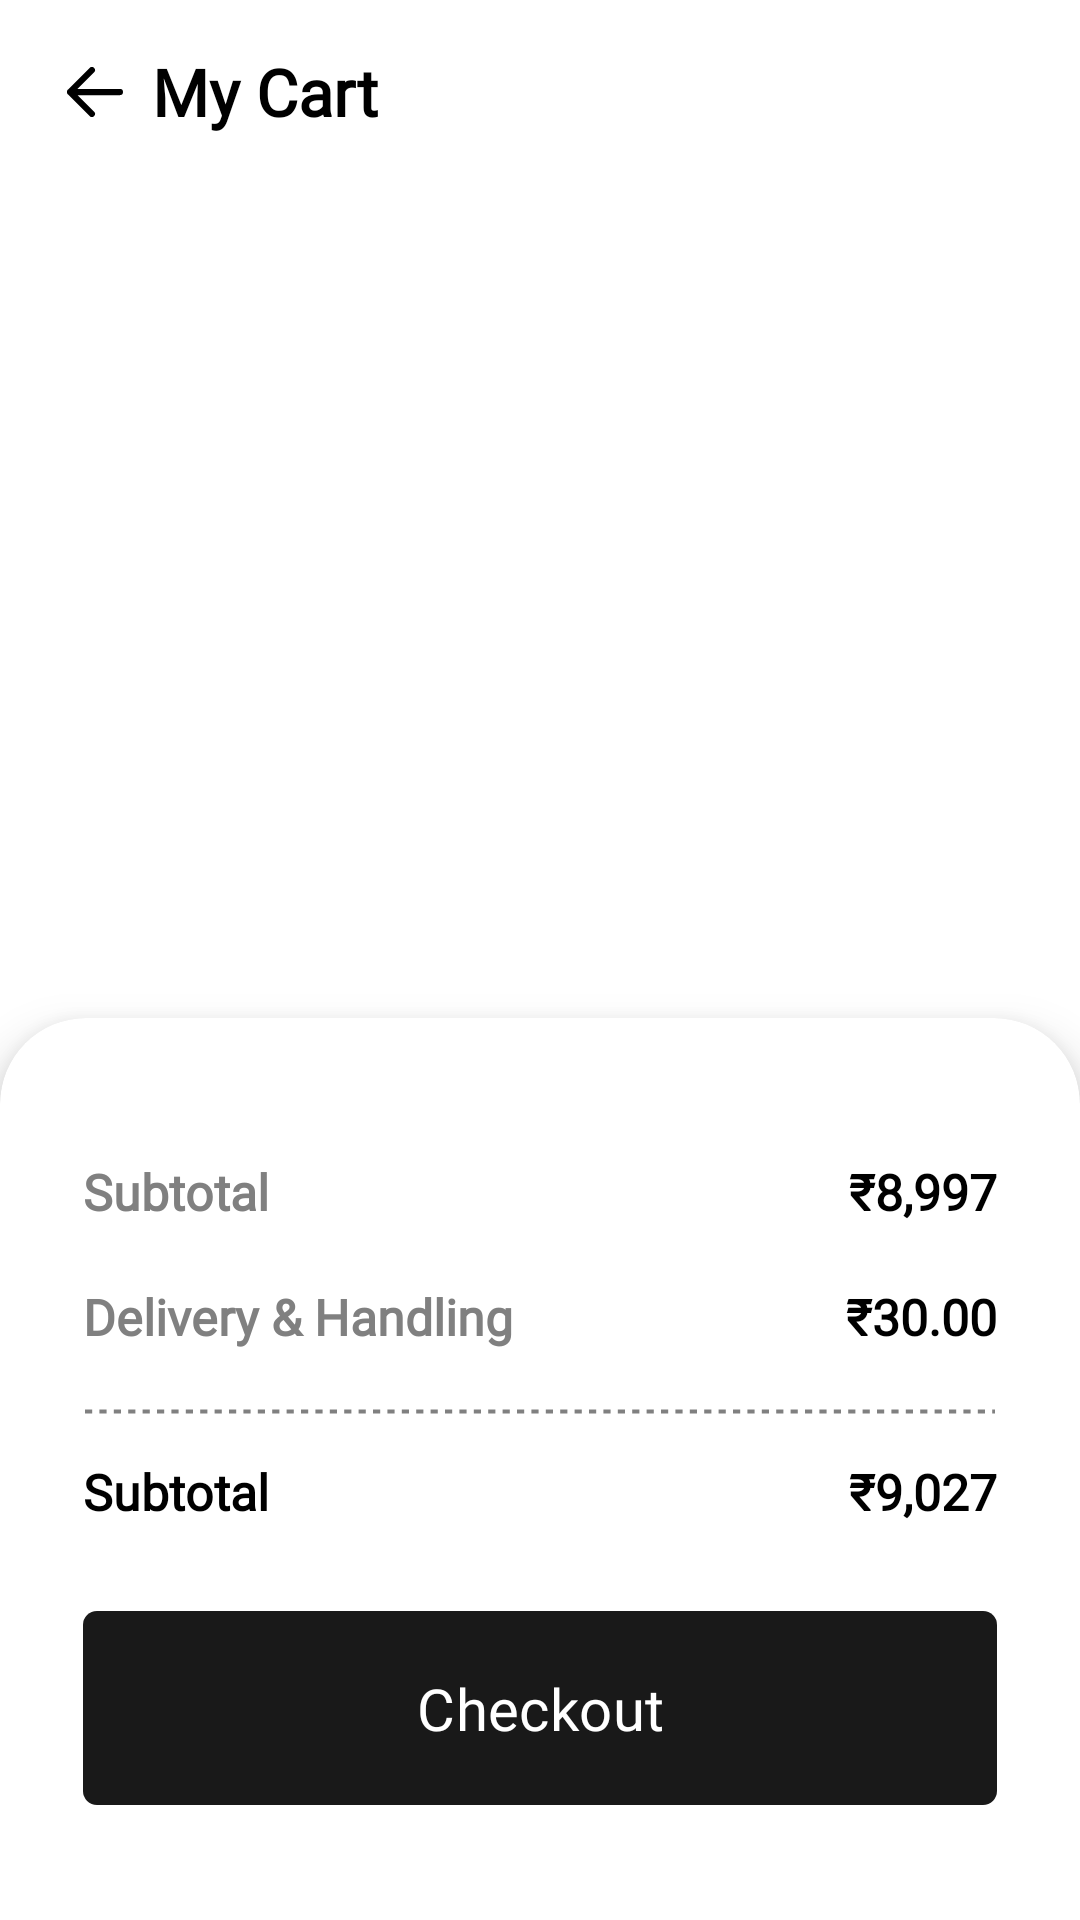

Icons on this 1080x1920 Android screen, each with its box as bbox(x1, y1, x2, y2):
back: bbox(67, 67, 123, 117)
